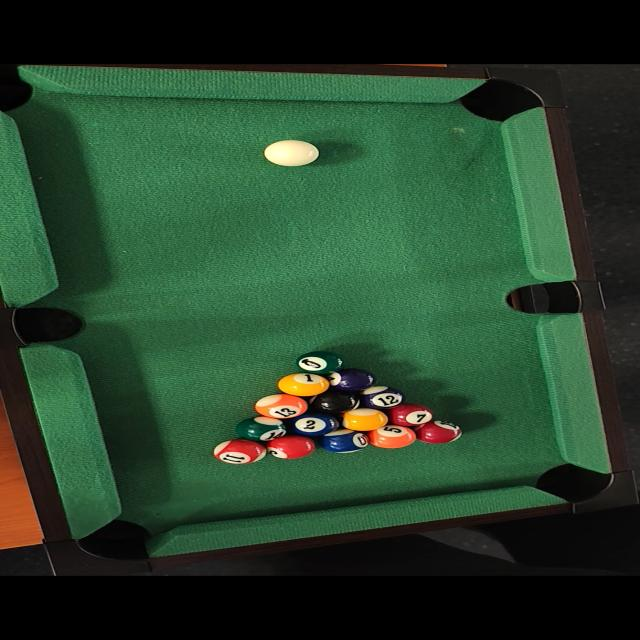cue ball: (257, 140, 324, 168)
other: (231, 414, 297, 448), (262, 430, 316, 462), (360, 422, 418, 451), (336, 404, 392, 434), (250, 392, 313, 418), (380, 401, 436, 430), (411, 416, 465, 446), (324, 364, 381, 392), (208, 439, 266, 466), (273, 373, 327, 398), (284, 412, 339, 436), (322, 428, 369, 456), (311, 389, 362, 414), (356, 384, 406, 409), (292, 352, 341, 374)
